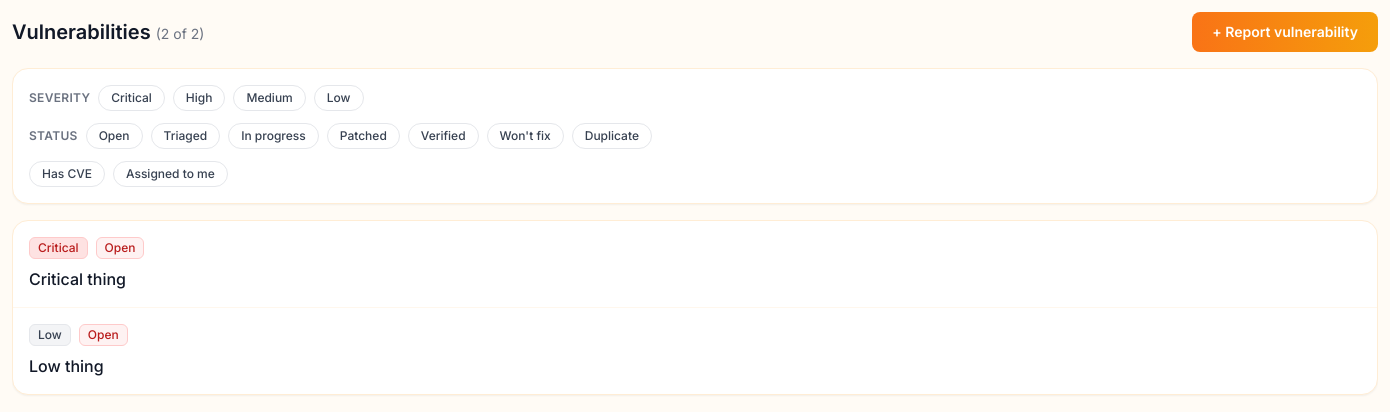
Test: VulnerabilitiesList › clears all filters
Click the button "Critical" at (132, 98), box top-left (98, 85), bottom-right (165, 111)
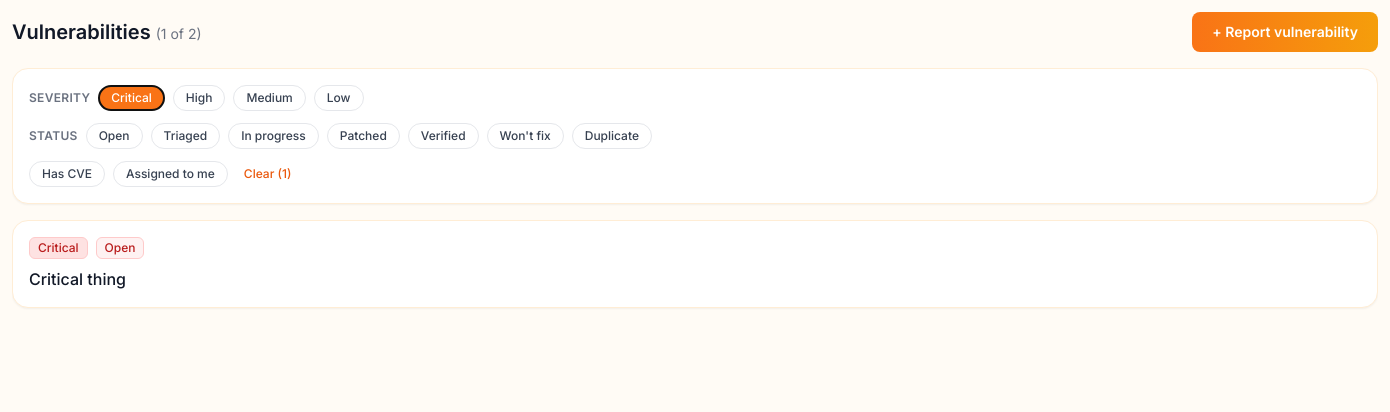
Expected: the link "Low thing" is gone
Click the button "Clear (1)" at (268, 174), box top-left (244, 166), bottom-right (291, 182)
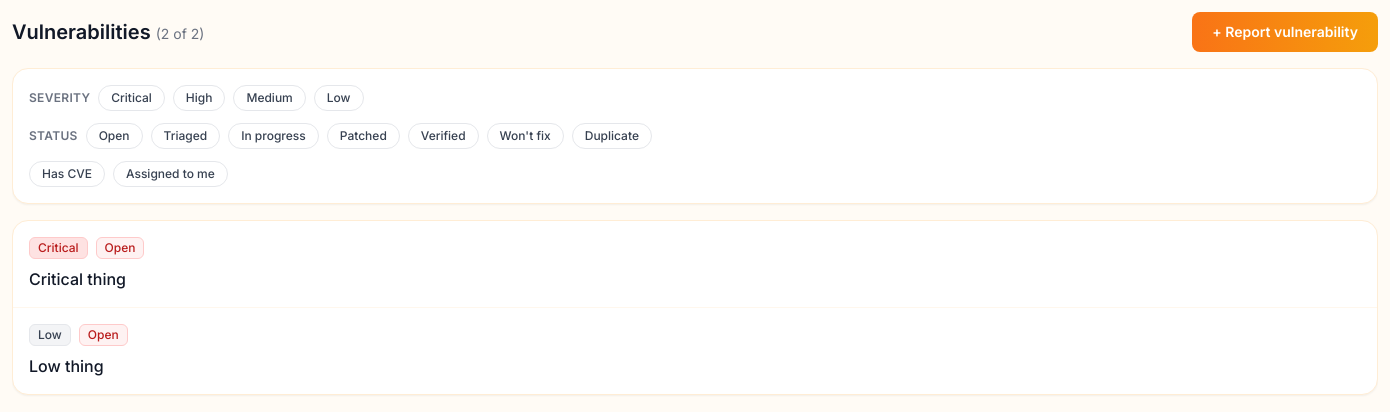
Expected: the text "Low thing" is shown, top-left (29, 356), bottom-right (104, 376)
